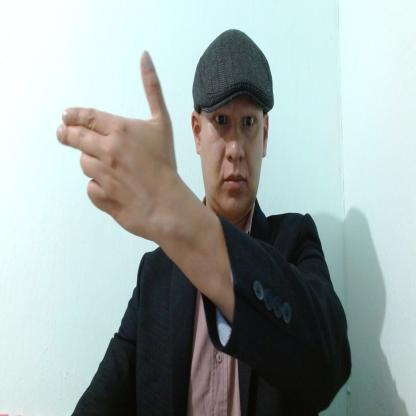H: (58, 49, 176, 242)
